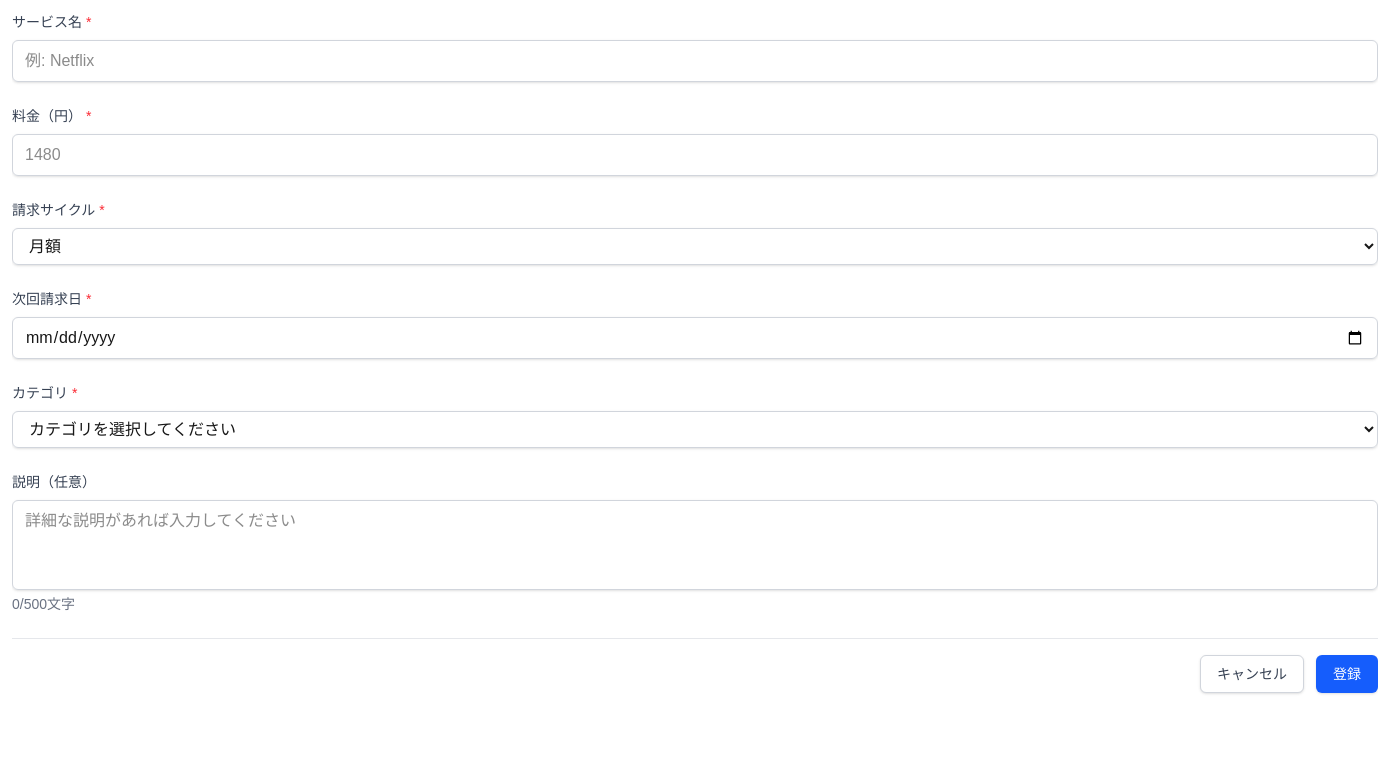
it: SubscriptionFormWithZod › バリデーション › 必須フィールドが空の場合エラーが表示される
Click the button "登録" at coordinates (1347, 674), box [1316, 655, 1378, 693]
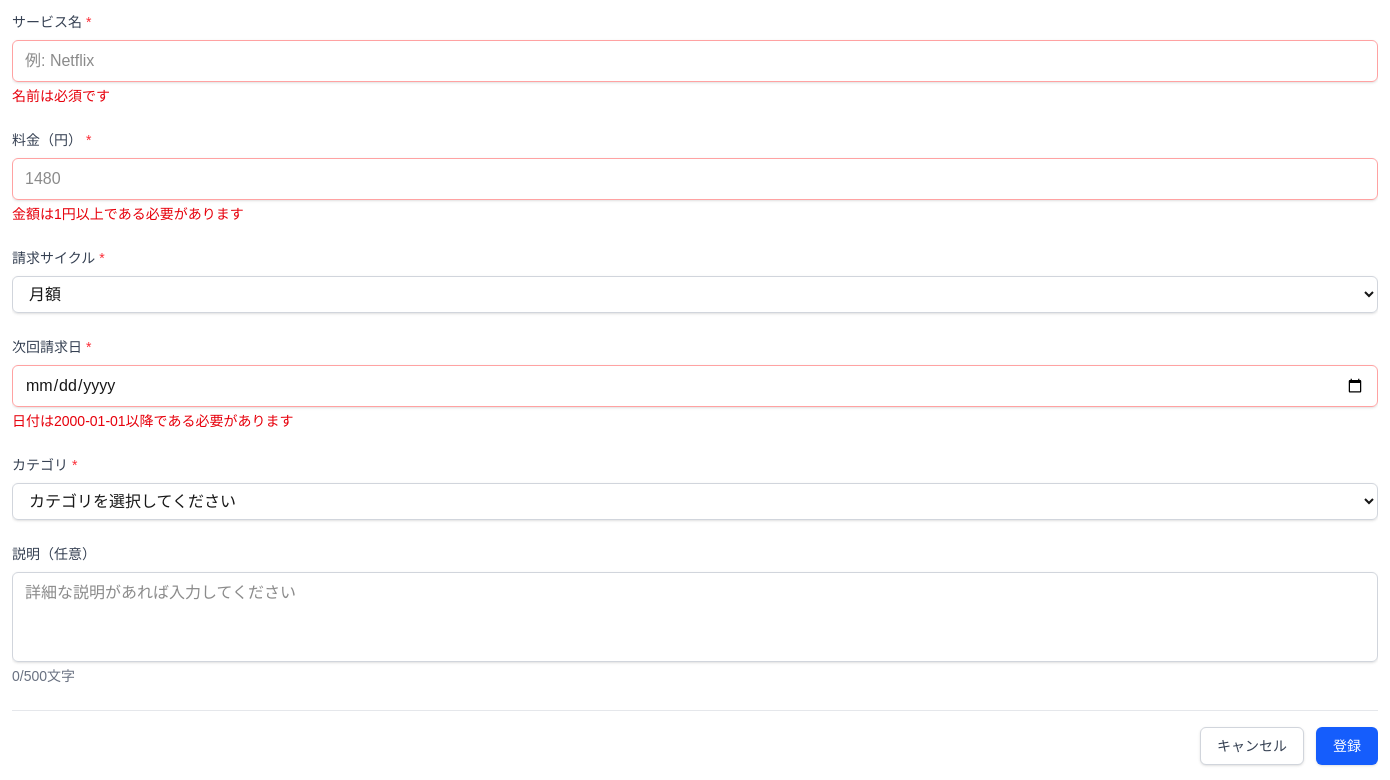
expect the text "名前は必須です" is shown: met, box [12, 88, 110, 104]
expect the text "金額は1円以上である必要があります" is shown: met, box [12, 206, 244, 222]
expect the text "日付は2000-01-01以降である必要があります" is shown: met, box [12, 413, 294, 429]
